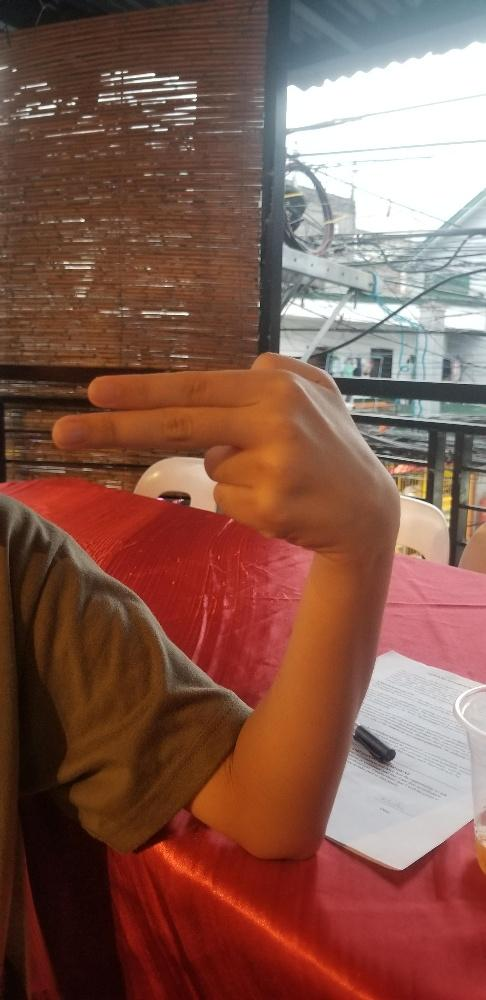h: (49, 350, 399, 554)
